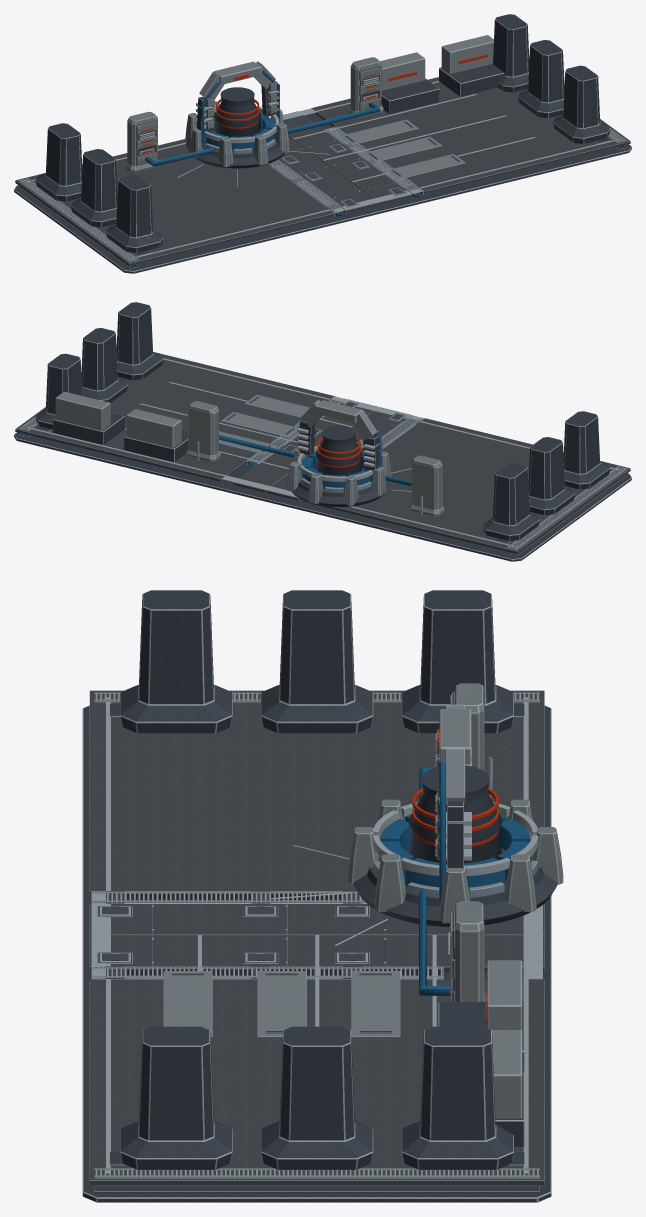
Rendered from MagnetarComplex.fbx.
The picture shows the model from 3 angles, top to bottom: view 1: azimuth 30°, elevation 25°; view 2: azimuth 150°, elevation 25°; view 3: azimuth 270°, elevation 25°; orthographic projection. The views are drawn at different scales.
Visible parts, largest first — view 1: CH_MagnetarComplex_refined_floor_-2_0, CH_MagnetarComplex_refined_floor_1_0, CH_MagnetarComplex_foundation_0_0, CH_MagnetarComplex_magnetic_installation_-1_1, CH_MagnetarComplex_refined_floor_0_0, CH_MagnetarComplex_induction_architecture_2_1, CH_MagnetarComplex_induction_architecture_2_-2, CH_MagnetarComplex_induction_architecture_-3_-2, CH_MagnetarComplex_induction_architecture_-3_0, CH_MagnetarComplex_induction_architecture_2_0, CH_MagnetarComplex_induction_architecture_-3_1, CH_MagnetarComplex_refined_floor_-1_0 (+17 smaller); view 2: CH_MagnetarComplex_refined_floor_-2_0, CH_MagnetarComplex_refined_floor_1_0, CH_MagnetarComplex_foundation_0_0, CH_MagnetarComplex_magnetic_installation_-1_1, CH_MagnetarComplex_induction_architecture_2_1, CH_MagnetarComplex_induction_architecture_-3_1, CH_MagnetarComplex_induction_architecture_2_-2, CH_MagnetarComplex_induction_architecture_-3_0, CH_MagnetarComplex_induction_architecture_-3_-2, CH_MagnetarComplex_induction_architecture_2_0, CH_MagnetarComplex_refined_floor_0_0, CH_MagnetarComplex_power_conversion_-2_1 (+14 smaller); view 3: CH_MagnetarComplex_refined_floor_-2_0, CH_MagnetarComplex_refined_floor_1_0, CH_MagnetarComplex_magnetic_installation_-1_1, CH_MagnetarComplex_refined_floor_0_0, CH_MagnetarComplex_induction_architecture_2_1, CH_MagnetarComplex_foundation_0_0, CH_MagnetarComplex_induction_architecture_2_-2, CH_MagnetarComplex_induction_architecture_2_0, CH_MagnetarComplex_induction_architecture_-3_0, CH_MagnetarComplex_induction_architecture_-3_-2, CH_MagnetarComplex_induction_architecture_-3_1, CH_MagnetarComplex_refined_floor_-1_0 (+17 smaller).
Part boxes in pixels (<box>): CH_MagnetarComplex_refined_floor_-2_0: <box>15,139,334,265</box>; CH_MagnetarComplex_refined_floor_1_0: <box>311,77,630,193</box>; CH_MagnetarComplex_foundation_0_0: <box>14,113,631,273</box>; CH_MagnetarComplex_magnetic_installation_-1_1: <box>186,61,284,168</box>; CH_MagnetarComplex_refined_floor_0_0: <box>283,111,418,204</box>; CH_MagnetarComplex_induction_architecture_2_1: <box>439,14,529,97</box>; CH_MagnetarComplex_induction_architecture_2_-2: <box>553,65,610,144</box>; CH_MagnetarComplex_induction_architecture_-3_-2: <box>106,174,163,252</box>; CH_MagnetarComplex_induction_architecture_-3_0: <box>70,149,117,227</box>; CH_MagnetarComplex_induction_architecture_2_0: <box>517,40,564,118</box>; CH_MagnetarComplex_induction_architecture_-3_1: <box>35,123,82,201</box>; CH_MagnetarComplex_refined_floor_-1_0: <box>267,136,379,212</box>; CH_MagnetarComplex_refined_floor_-2_0: <box>311,418,630,553</box>; CH_MagnetarComplex_refined_floor_1_0: <box>15,352,334,481</box>; CH_MagnetarComplex_foundation_0_0: <box>14,423,631,561</box>; CH_MagnetarComplex_magnetic_installation_-1_1: <box>291,400,390,506</box>; CH_MagnetarComplex_induction_architecture_2_1: <box>35,353,124,445</box>; CH_MagnetarComplex_induction_architecture_-3_1: <box>482,462,539,540</box>; CH_MagnetarComplex_induction_architecture_2_-2: <box>116,302,163,380</box>; CH_MagnetarComplex_induction_architecture_-3_0: <box>528,437,575,515</box>; CH_MagnetarComplex_induction_architecture_-3_-2: <box>563,411,610,489</box>; CH_MagnetarComplex_induction_architecture_2_0: <box>81,328,128,402</box>; CH_MagnetarComplex_refined_floor_0_0: <box>219,399,378,492</box>; CH_MagnetarComplex_power_conversion_-2_1: <box>363,455,444,516</box>; CH_MagnetarComplex_refined_floor_-2_0: <box>89,690,544,896</box>; CH_MagnetarComplex_refined_floor_1_0: <box>89,979,544,1185</box>; CH_MagnetarComplex_magnetic_installation_-1_1: <box>353,704,557,926</box>; CH_MagnetarComplex_refined_floor_0_0: <box>89,935,544,1037</box>; CH_MagnetarComplex_induction_architecture_2_1: <box>401,1026,524,1170</box>; CH_MagnetarComplex_foundation_0_0: <box>82,705,551,1202</box>; CH_MagnetarComplex_induction_architecture_2_-2: <box>120,1026,232,1170</box>; CH_MagnetarComplex_induction_architecture_2_0: <box>261,1026,373,1170</box>; CH_MagnetarComplex_induction_architecture_-3_0: <box>261,590,373,733</box>; CH_MagnetarComplex_induction_architecture_-3_-2: <box>120,590,232,733</box>; CH_MagnetarComplex_induction_architecture_-3_1: <box>401,590,513,733</box>; CH_MagnetarComplex_refined_floor_-1_0: <box>89,891,544,935</box>.
Bounding box in the file's own units: 50 × 8.41 × 20.5.
